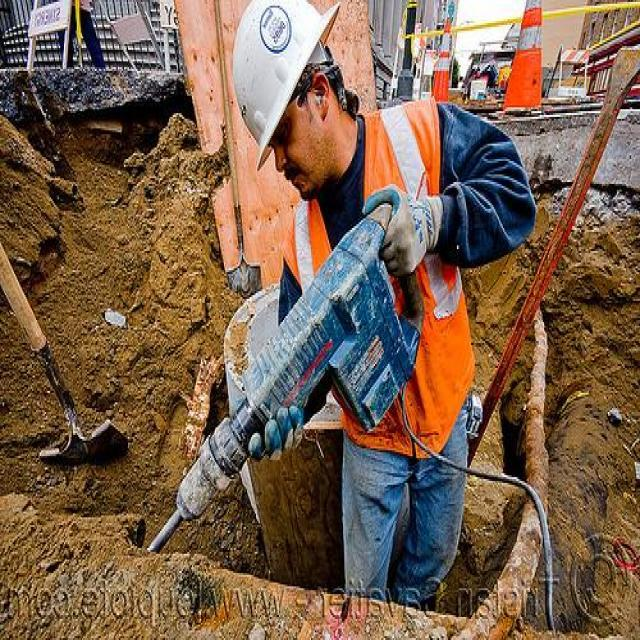reflective_jacket: (288, 101, 473, 459)
safety_helmet: (226, 0, 339, 166)
